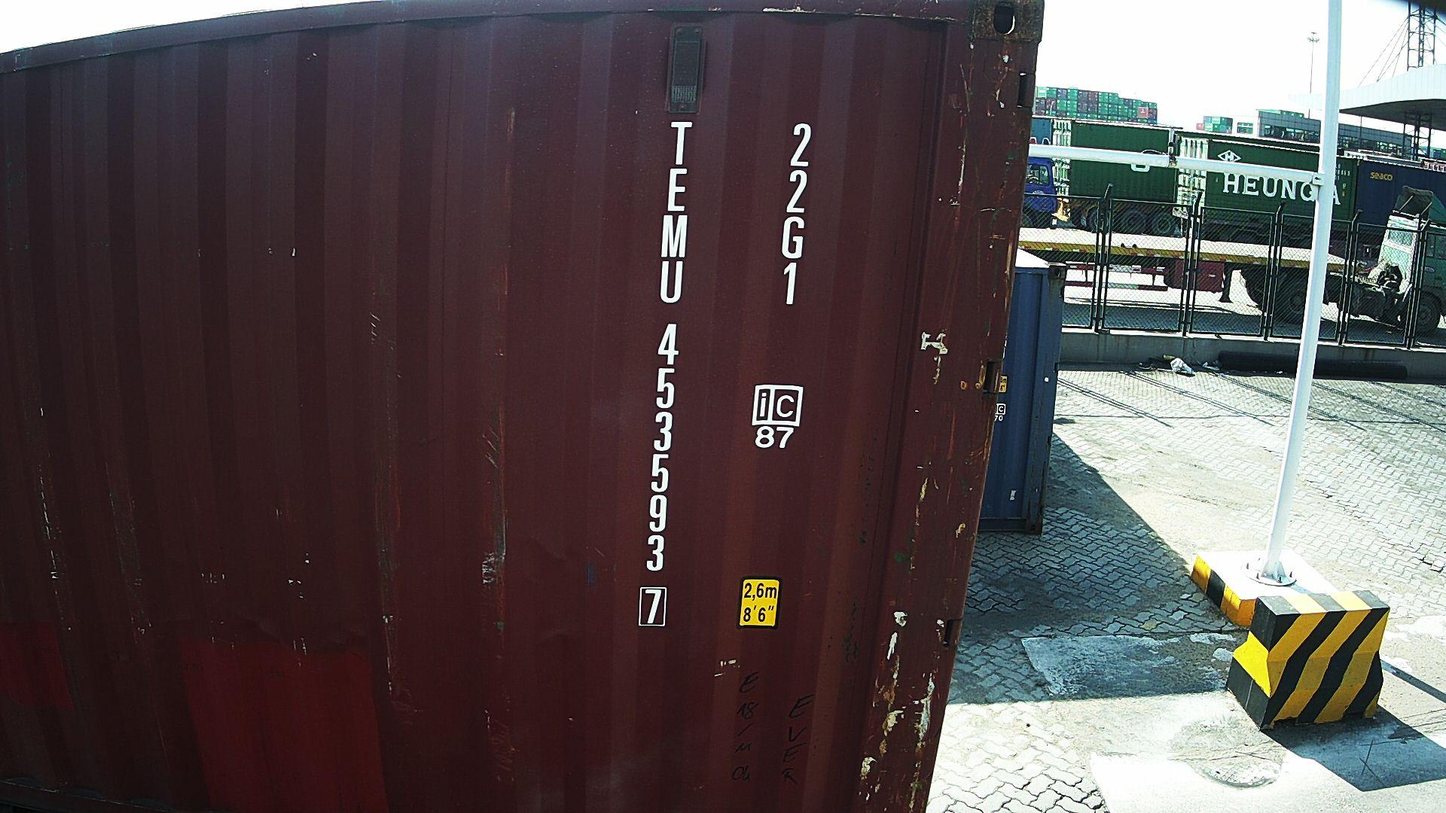container-numbers: (635, 115, 692, 634), (772, 119, 818, 312)
